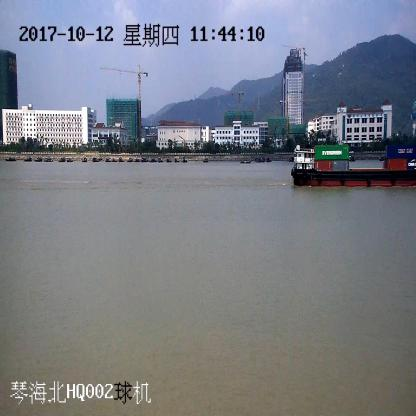Container Ship: (293, 144, 415, 188)
